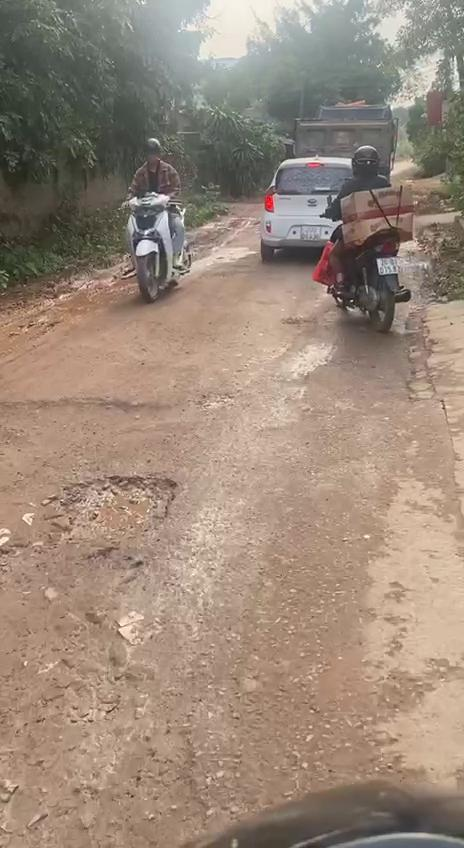pothole: (0, 464, 186, 633), (0, 386, 233, 456)
